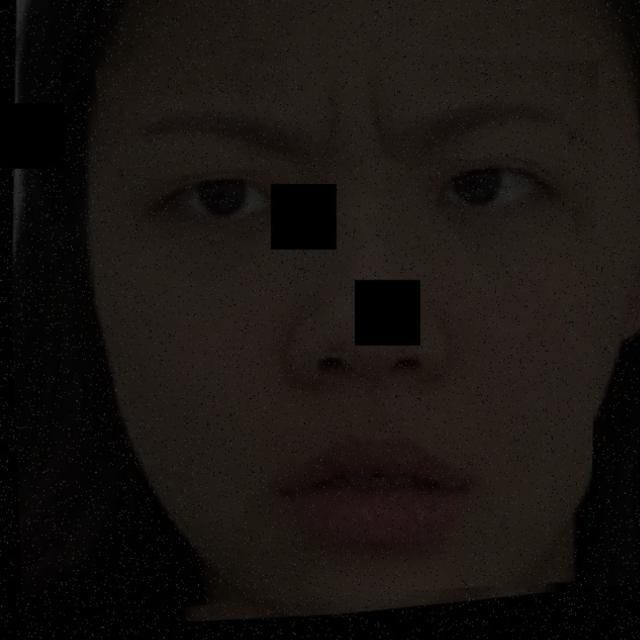Angry: (81, 44, 640, 566)
